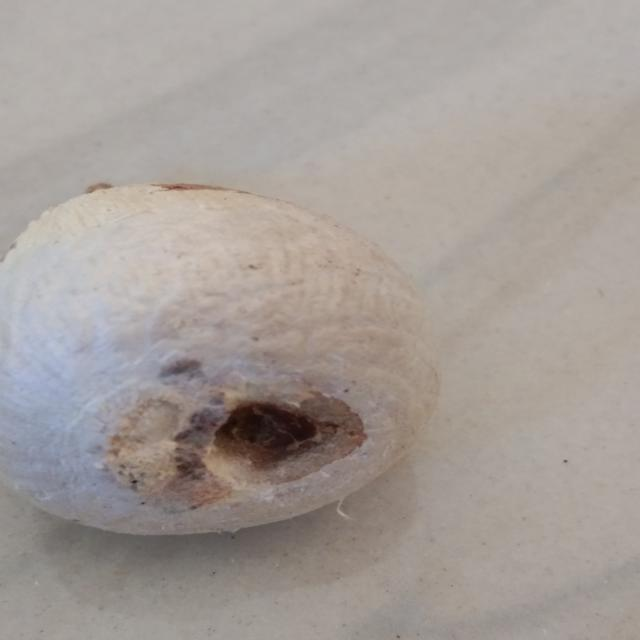phatora: (0, 164, 460, 575)
